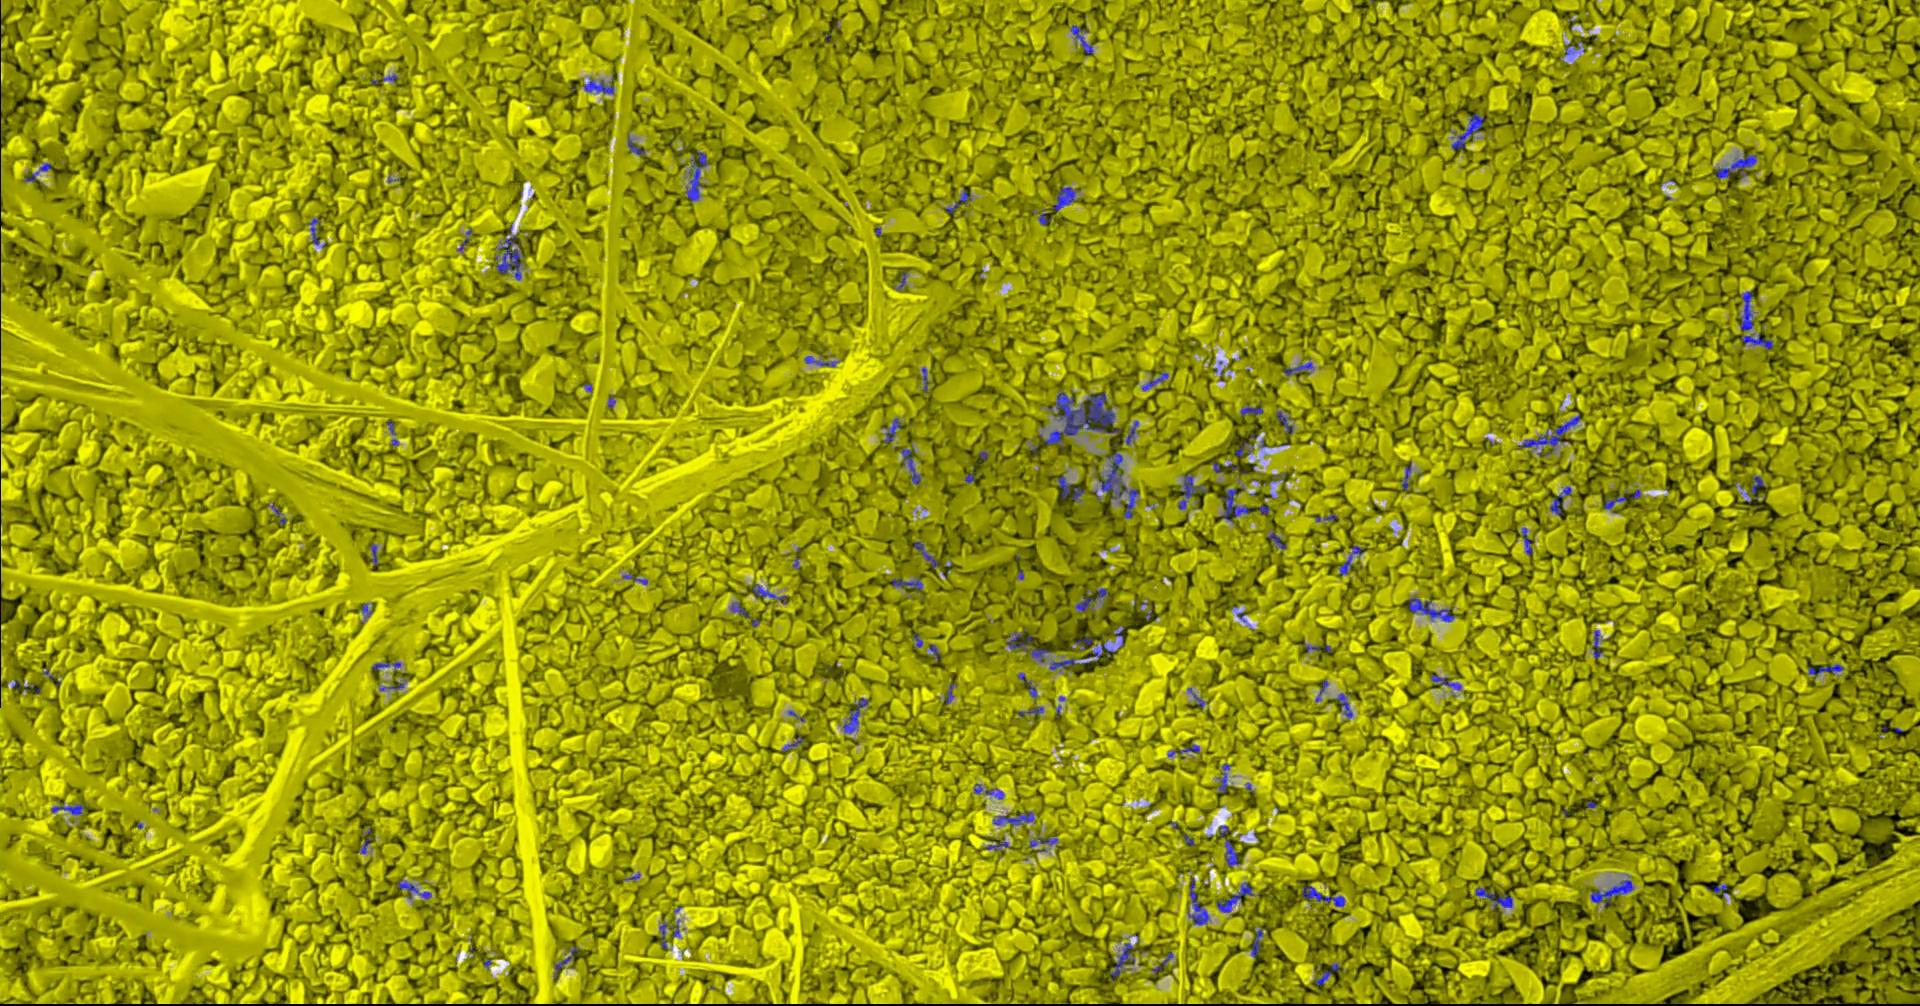ant: (1100, 448, 1142, 517), (1523, 415, 1582, 455), (1051, 643, 1117, 669), (1222, 488, 1271, 520), (1453, 112, 1488, 150), (1218, 882, 1260, 912), (1008, 633, 1051, 662), (497, 235, 523, 279), (1592, 879, 1634, 907), (1410, 597, 1457, 621), (1178, 473, 1209, 509), (688, 149, 709, 199), (1717, 154, 1757, 178), (1190, 876, 1210, 925), (1477, 887, 1514, 912), (1111, 942, 1137, 979), (844, 697, 870, 733), (1303, 885, 1346, 906), (555, 946, 582, 978), (1059, 473, 1086, 500), (1604, 489, 1642, 508), (1077, 588, 1109, 611), (397, 878, 433, 898), (1072, 24, 1095, 55), (903, 448, 922, 484), (1053, 187, 1081, 211), (1550, 486, 1573, 516), (994, 810, 1035, 826), (916, 541, 938, 568), (946, 191, 971, 213), (1741, 290, 1755, 330), (1316, 963, 1341, 984), (1018, 672, 1039, 699), (662, 920, 681, 948), (1742, 333, 1774, 349), (1143, 372, 1170, 390), (885, 417, 903, 443), (1153, 951, 1175, 973), (1335, 694, 1354, 718), (1747, 475, 1765, 500), (585, 77, 615, 93), (975, 782, 1004, 798), (1225, 838, 1241, 868), (52, 801, 86, 814), (1432, 674, 1463, 688), (1285, 361, 1314, 375), (893, 577, 924, 589), (1124, 420, 1140, 445), (1030, 835, 1059, 847), (1170, 744, 1201, 756), (1810, 664, 1845, 674), (1277, 412, 1294, 433), (806, 354, 837, 366), (629, 136, 646, 155), (1269, 531, 1288, 549), (753, 583, 777, 597), (1220, 763, 1232, 793), (1523, 527, 1534, 555), (1594, 630, 1605, 658), (1252, 929, 1263, 956), (1242, 401, 1263, 415), (310, 218, 321, 244), (731, 602, 750, 617), (987, 837, 1010, 850), (389, 420, 400, 445), (1076, 636, 1095, 650), (1707, 884, 1730, 895), (373, 661, 403, 669), (1018, 706, 1044, 716), (1341, 554, 1352, 575), (1403, 462, 1412, 489), (371, 542, 378, 568), (1040, 208, 1051, 225)
